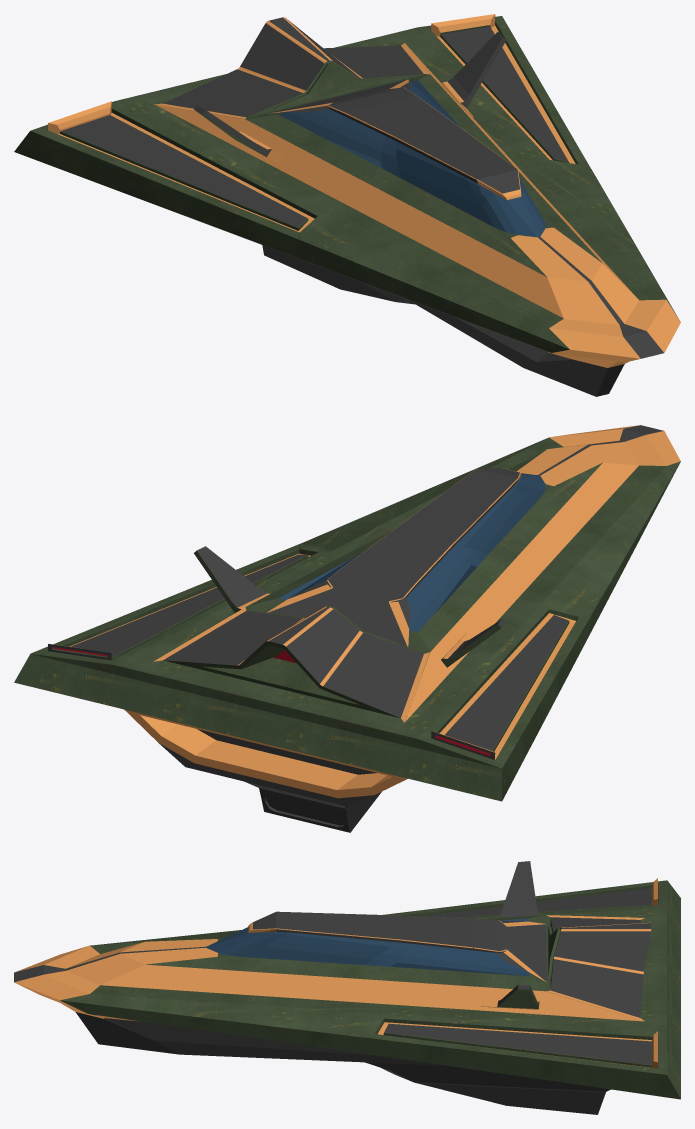
The model's file is spaceship.gltf.
3 views of the same model, one above another, from view 1: azimuth 30°, elevation 25°; view 2: azimuth 150°, elevation 25°; view 3: azimuth 270°, elevation 25° (orthographic). The views are drawn at different scales.
Visible parts, largest first — view 1: Spaceship Base; view 2: Spaceship Base; view 3: Spaceship Base.
Part boxes in pixels (x1=…): Spaceship Base: x1=14, y1=14, x2=680, y2=396; Spaceship Base: x1=14, y1=425, x2=680, y2=832; Spaceship Base: x1=14, y1=861, x2=680, y2=1114.
Size of the model in its own units: 8.29 by 3.4 by 11.6.
6 materials, 1 textured.
